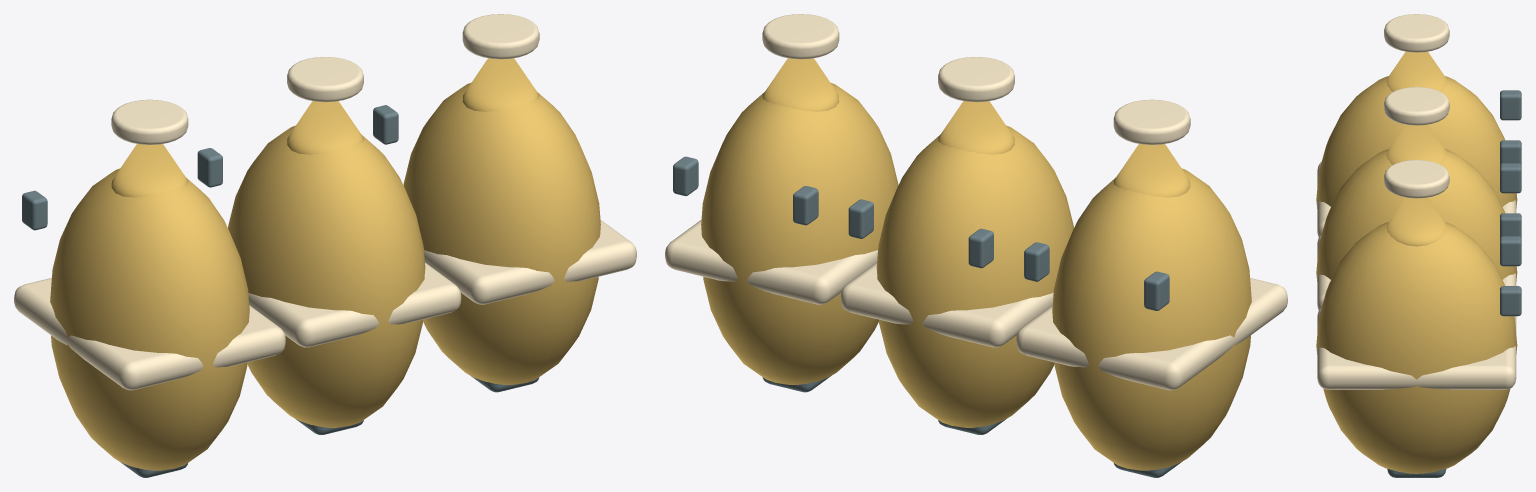
File: broto_hoppers_seed.glb
The picture shows the model from 3 angles, left to right: view 1: azimuth 30°, elevation 25°; view 2: azimuth 150°, elevation 25°; view 3: azimuth 270°, elevation 25°; orthographic projection. The views are drawn at different scales.
Visible parts, largest first — view 1: Hoppers, CraftDetails; view 2: Hoppers, CraftDetails; view 3: Hoppers, CraftDetails.
Part boxes in pixels (x1=…): Hoppers: x1=14, y1=58, x2=636, y2=470; CraftDetails: x1=22, y1=14, x2=539, y2=477; Hoppers: x1=665, y1=58, x2=1287, y2=470; CraftDetails: x1=673, y1=14, x2=1190, y2=477; Hoppers: x1=1316, y1=51, x2=1517, y2=473; CraftDetails: x1=1384, y1=14, x2=1521, y2=477.
Bounding box in the file's own units: 2.32 × 1.5 × 0.94.
